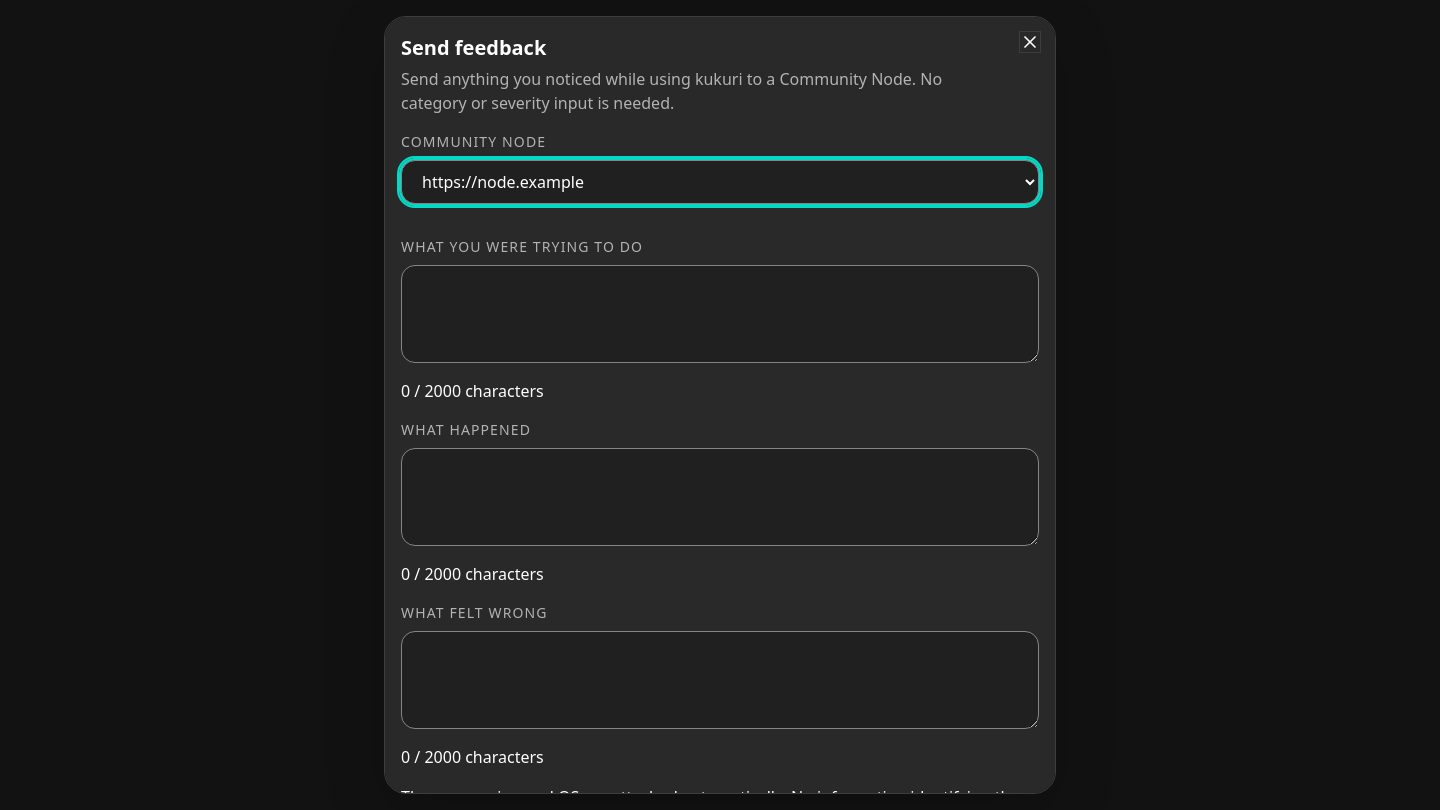
it: maps stable error codes to error notices
Type "create a post" into the text box labelled "What you were trying to do". click: (720, 314)
box: [401,265,1039,363]
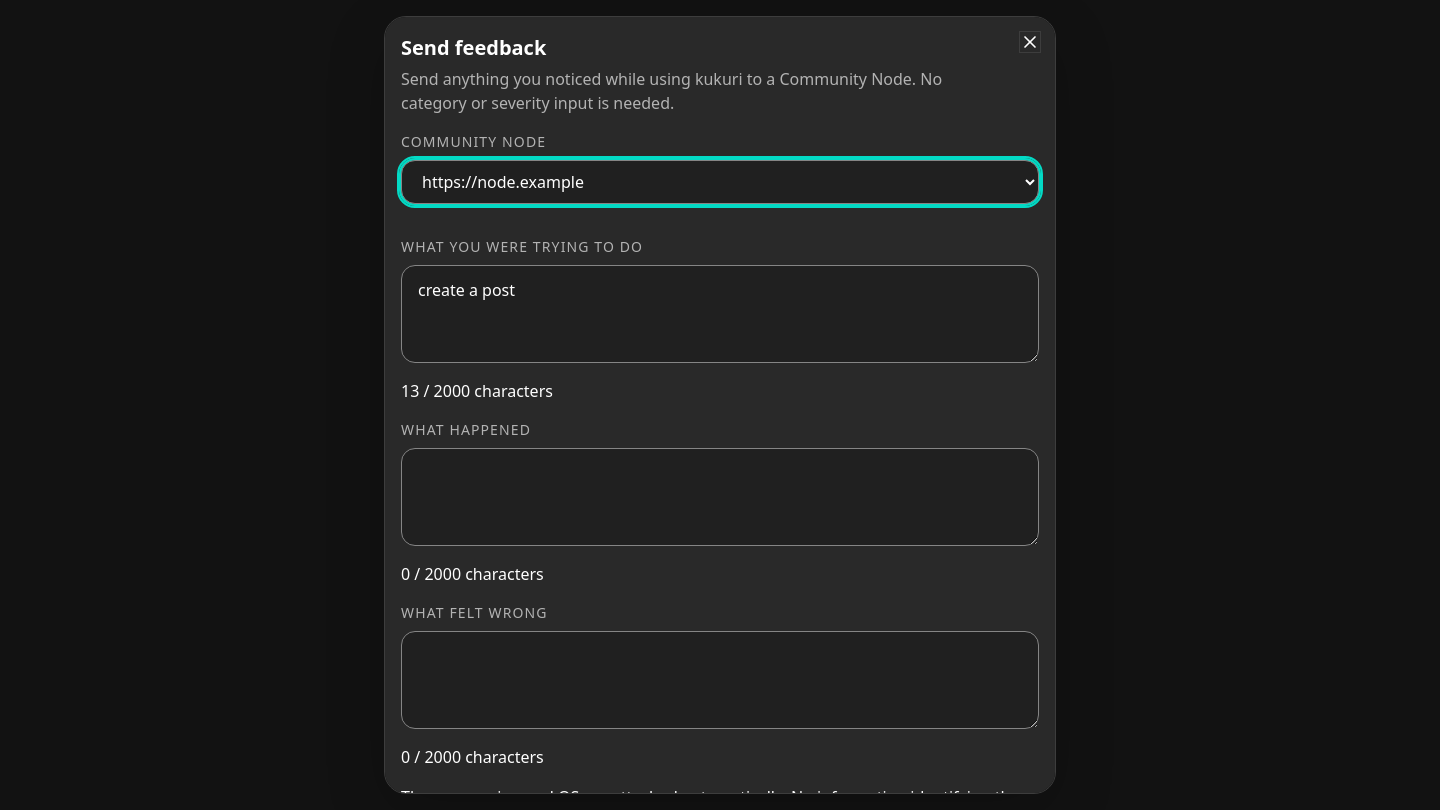
Type "nothing happened after pressing send" into the text box labelled "What happened". click: (720, 497)
box: [401,448,1039,546]
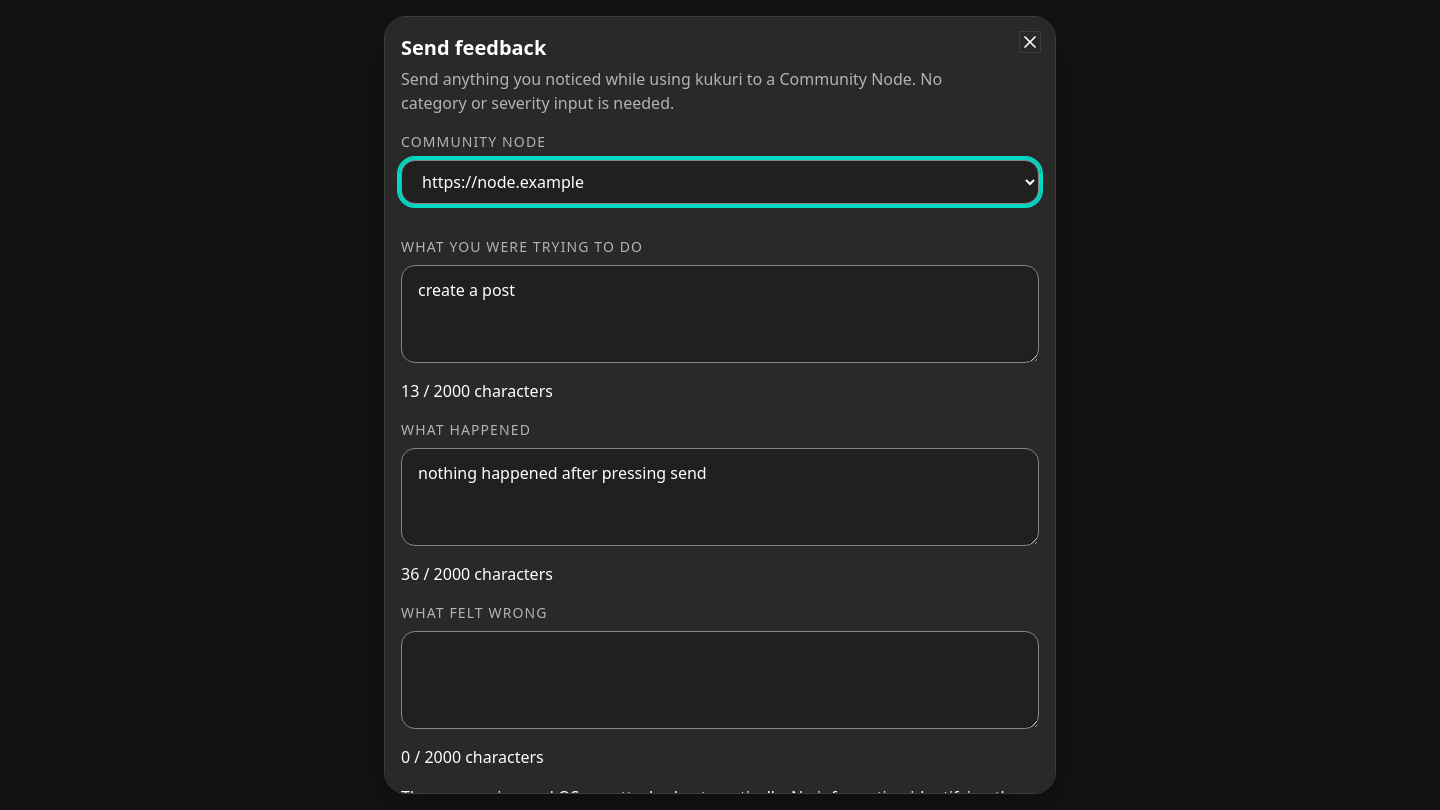
Type "no error and no success message" into the text box labelled "What felt wrong". click: (720, 680)
box: [401,631,1039,729]
(page scrolled)
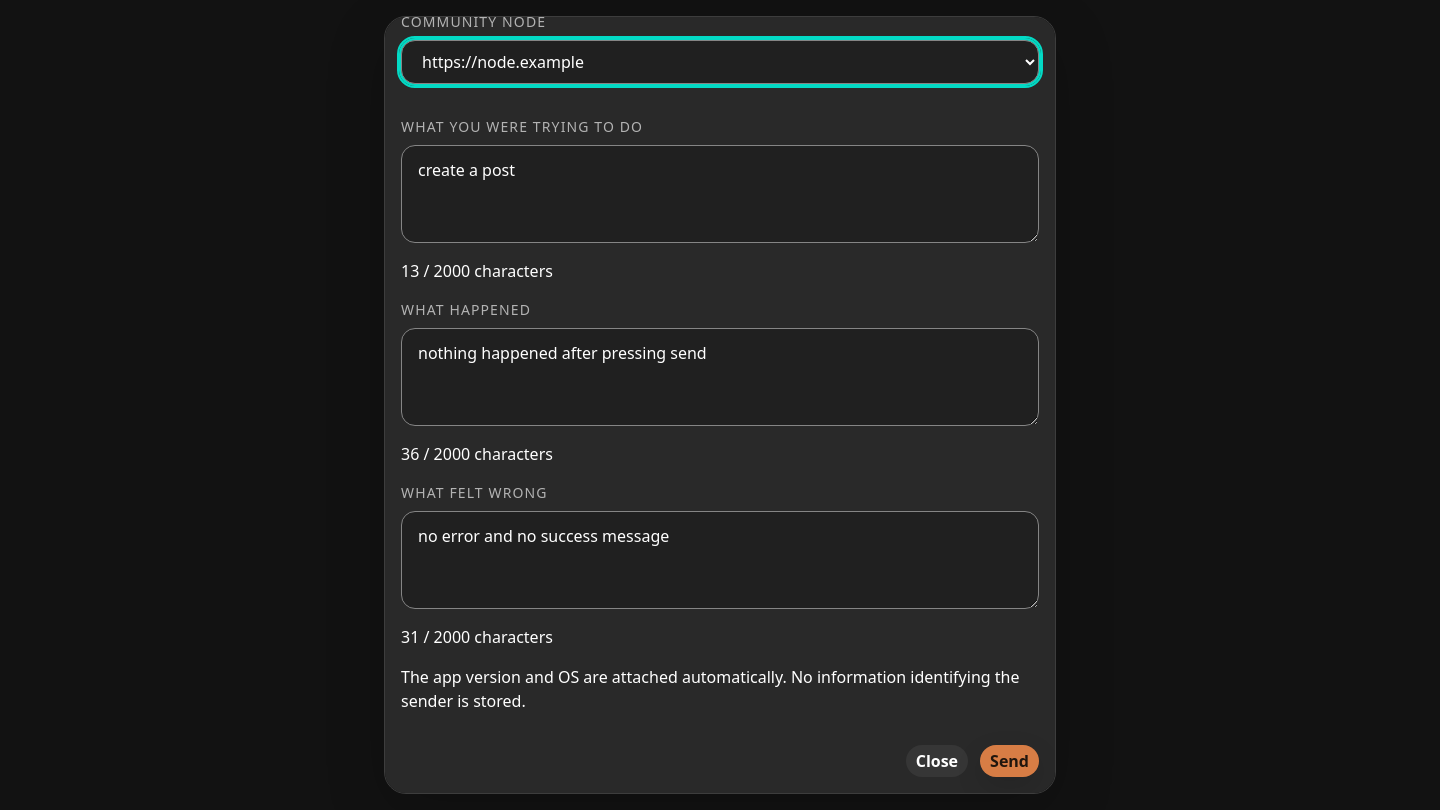
Click the button "Send". click: (1010, 761)
box: [980,745,1039,777]
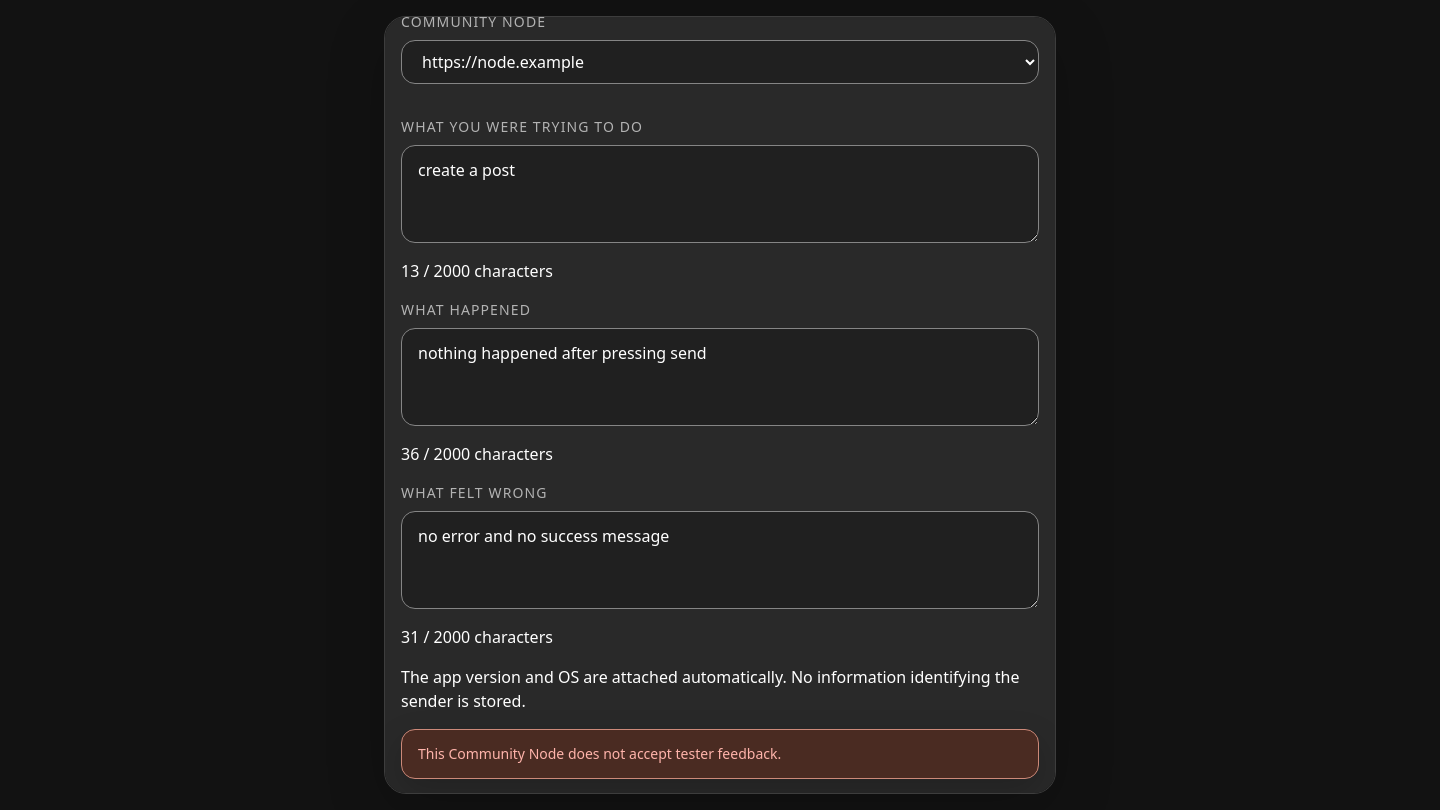
Expected: the text "This Community Node does not accept tester feedback." is shown, [401,729,1039,779]
